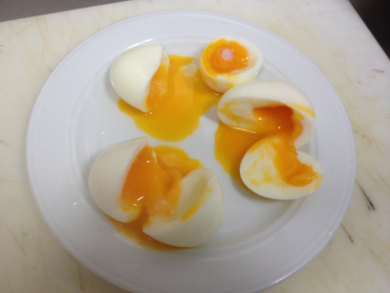egg: (93, 25, 324, 251)
